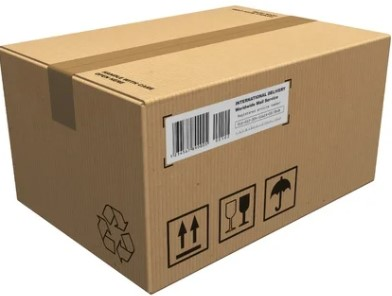stock: (1, 6, 389, 293)
